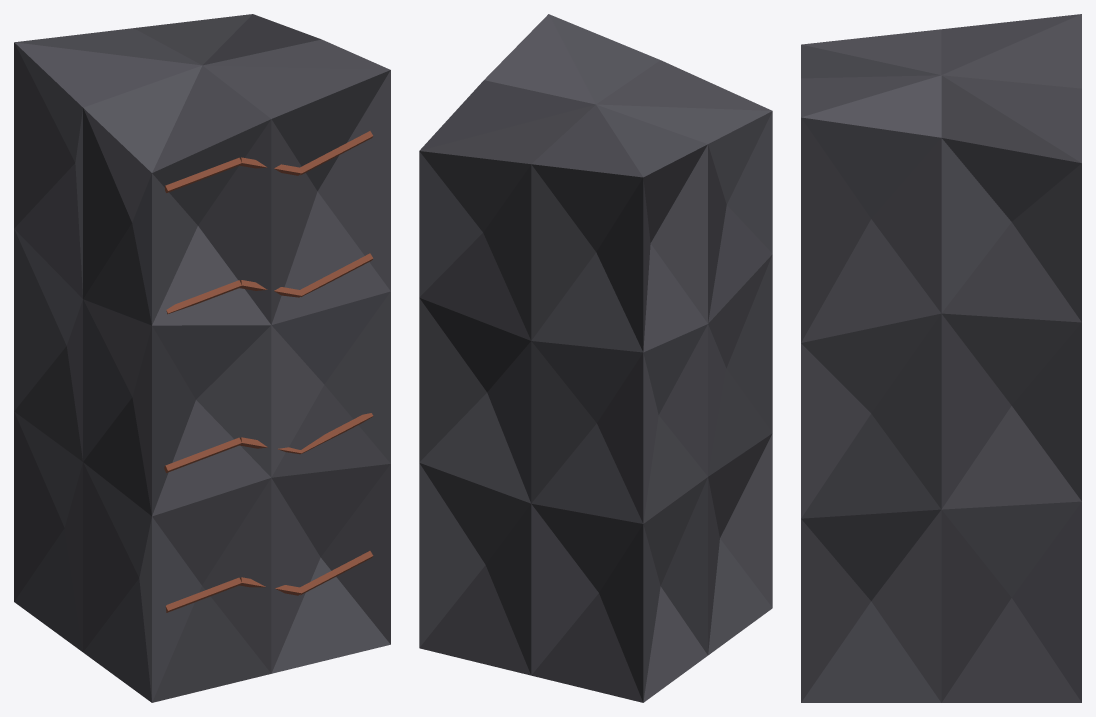
Rendered from iron_wall_a.glb.
3 views of the same model, side by side, from view 1: azimuth 30°, elevation 25°; view 2: azimuth 150°, elevation 25°; view 3: azimuth 270°, elevation 25° (orthographic). The views are drawn at different scales.
Parts seen in each view (by area): view 1: geometry; view 2: geometry; view 3: geometry.
Part boxes in pixels (box(x1,y1,x2,y2)): geometry: box(14, 14, 390, 702); geometry: box(419, 14, 772, 702); geometry: box(801, 14, 1081, 702).
Bounding box in the file's own units: 1 × 2.3 × 1.
